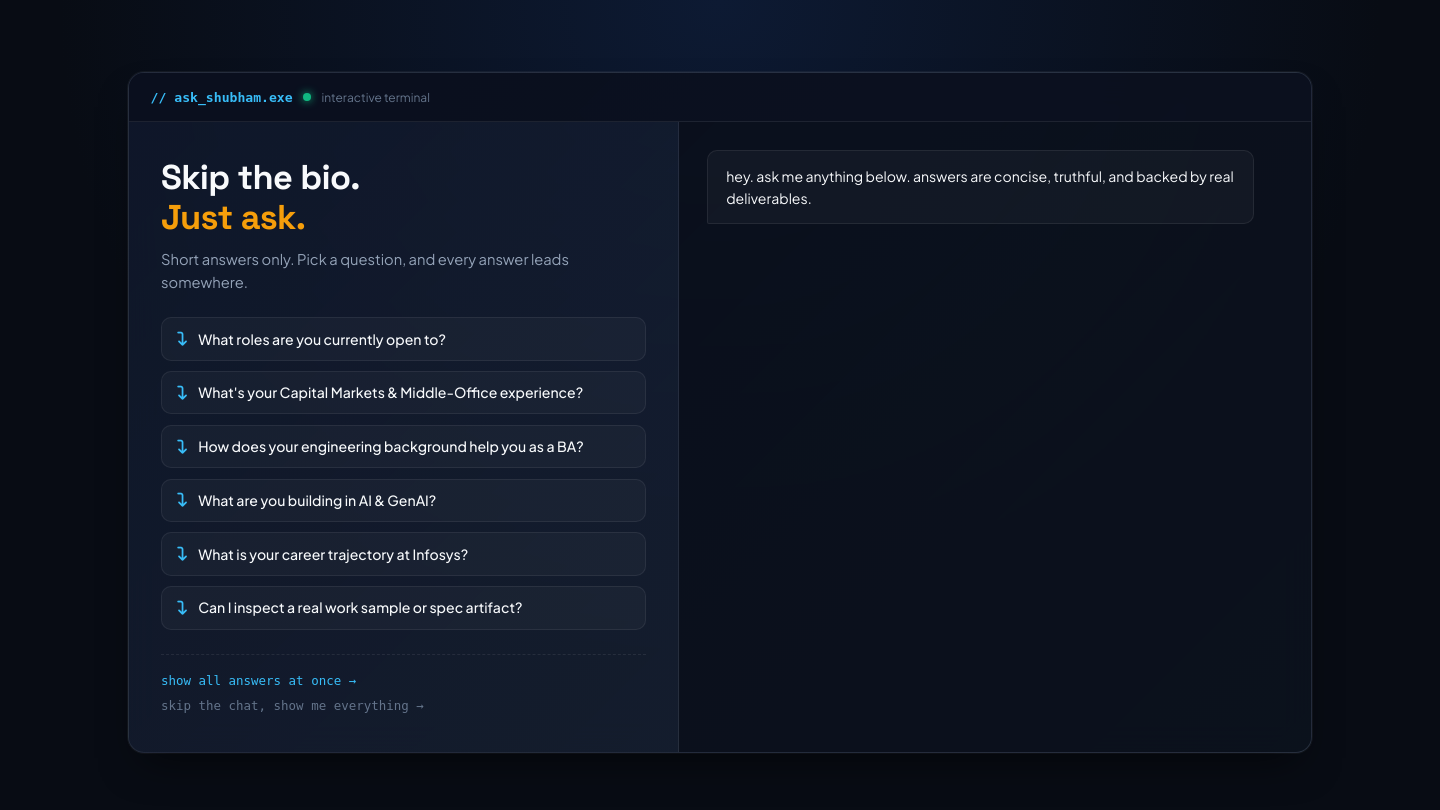
Test: Techno-Functional Portfolio Comprehensive Regression Suite › AskShubham Component › displays all answers at once when show all button is clicked and allows restart
This screenshot has width=1440, height=810.
Click the button "show all answers at once →" at (259, 680), box 161,673 -> 646,688
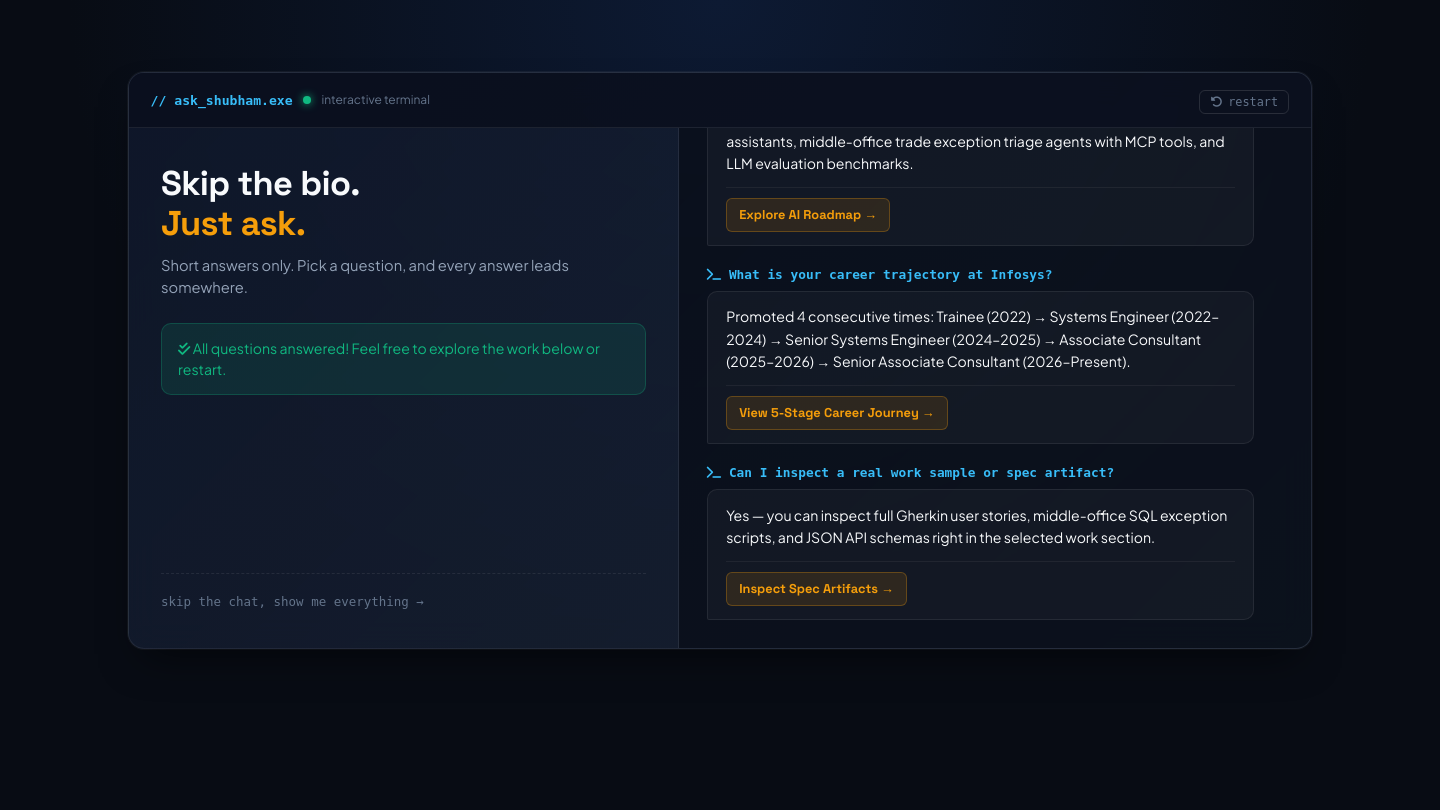
Check: the text "Promoted 4 consecutive times" is shown, box 726,307 -> 1219,370
Click the button "restart" at (1244, 102), box 1199,90 -> 1289,114
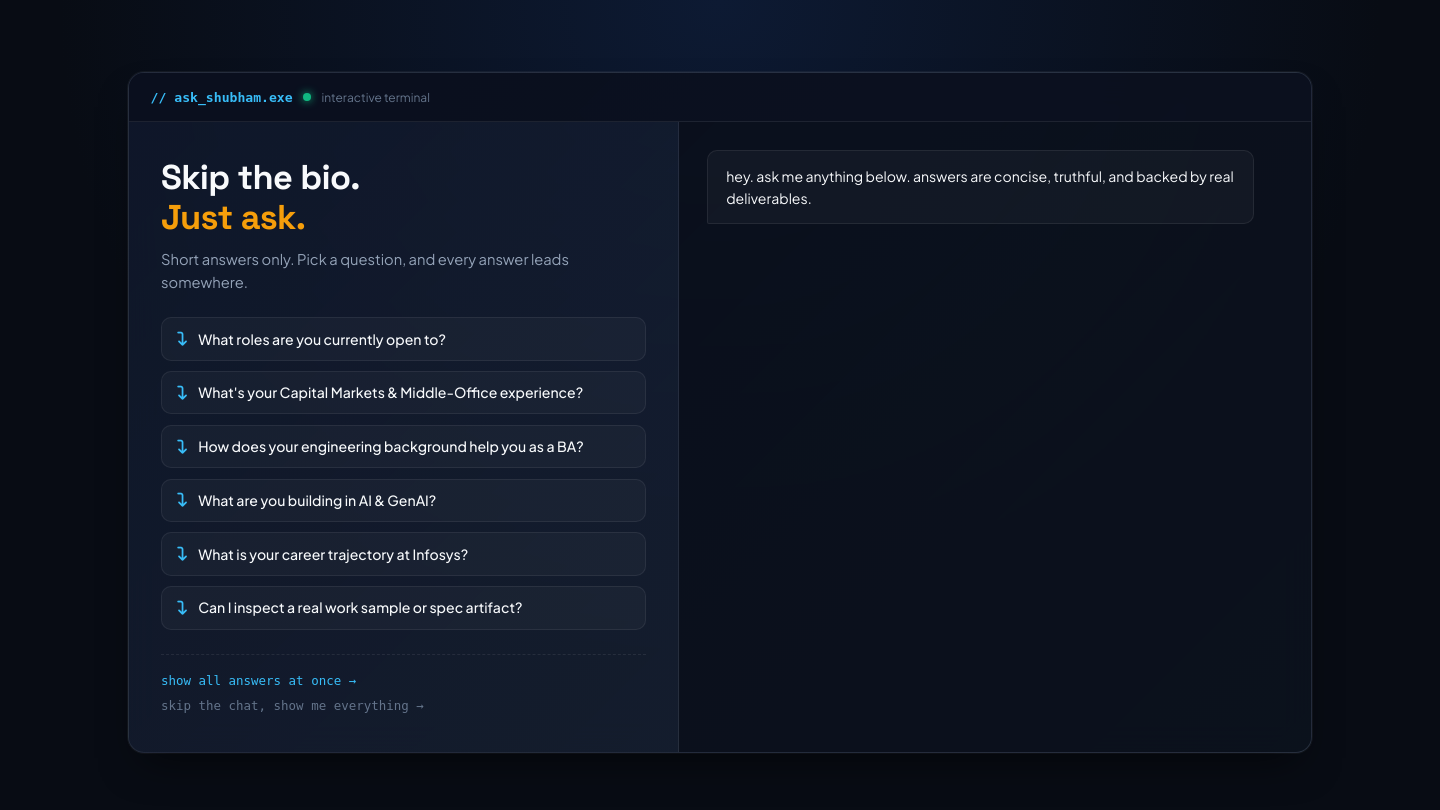
Check: the button "What roles are you currently open to?" is shown, box 161,317 -> 646,361
